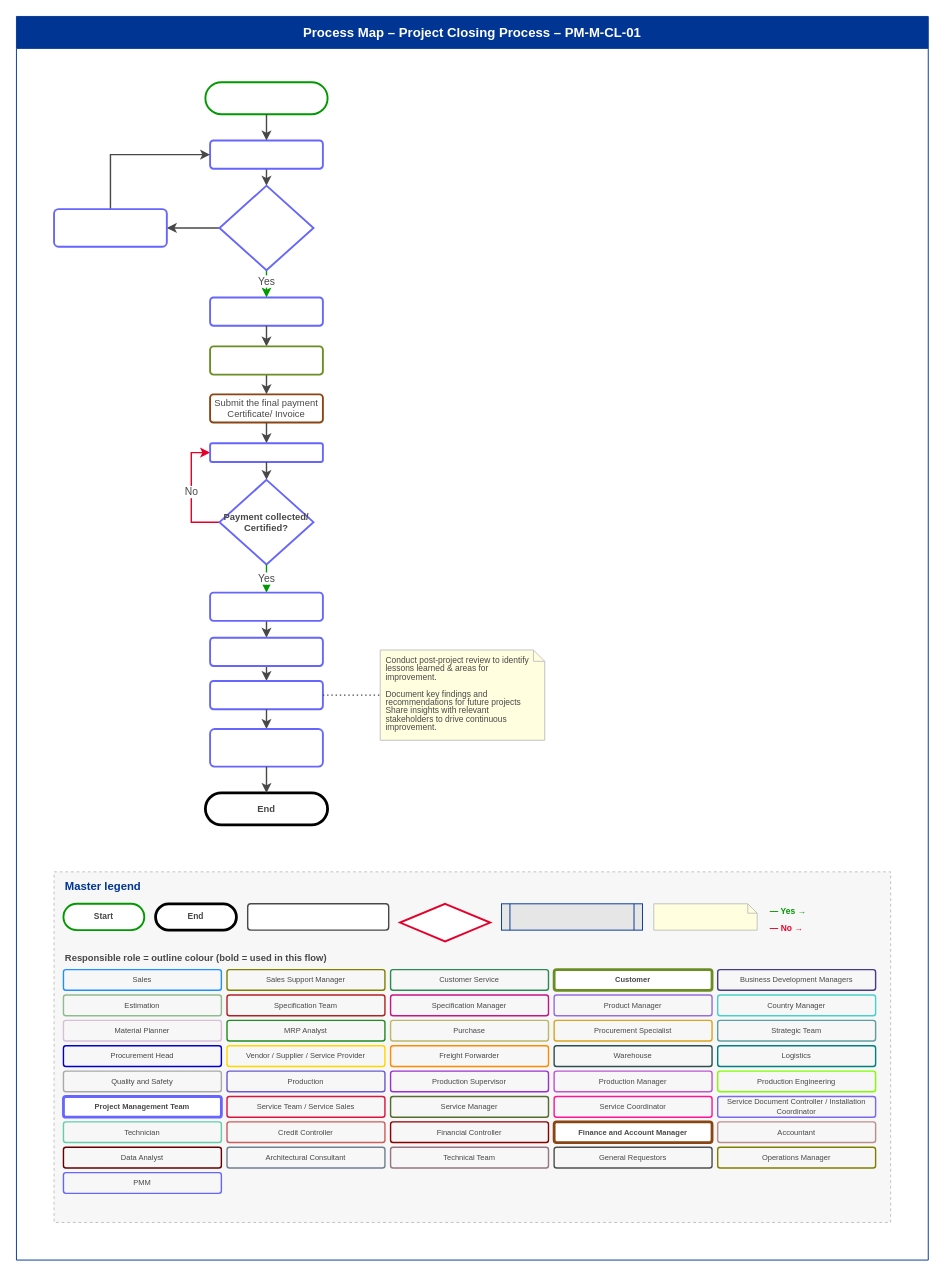
This 945x1277 diagram has some shape labels left out. The centre of each missing label's shape, as x and y in pixels:
"Activity (outline = role)" belongs at (318,916).
"All Issue/Snags Fixed?" belongs at (266,227).
"Closing" belongs at (266,98).
"Completion report signed" belongs at (266,311).
"Conduct final inspections (Snagging)" belongs at (266,154).
"Coordinate with contractor/s to fix the findings" belongs at (110,227).
"Decision" belongs at (445,922).
"Follow-up on Payment" belongs at (266,452).
"Internal Closeout & Service Handover" belongs at (266,651).
"Issue Balance Payment Certificate" belongs at (266,360).
"Linked process (Ref ID)" belongs at (571,916).
"Note / checklist" belongs at (705,916).
"Record lessons learned and improvement" belongs at (266,695).
"Retention payment release after DLP/ Against BG" belongs at (266,747).
"Warranty/ Close-out Document Submission" belongs at (266,606).
